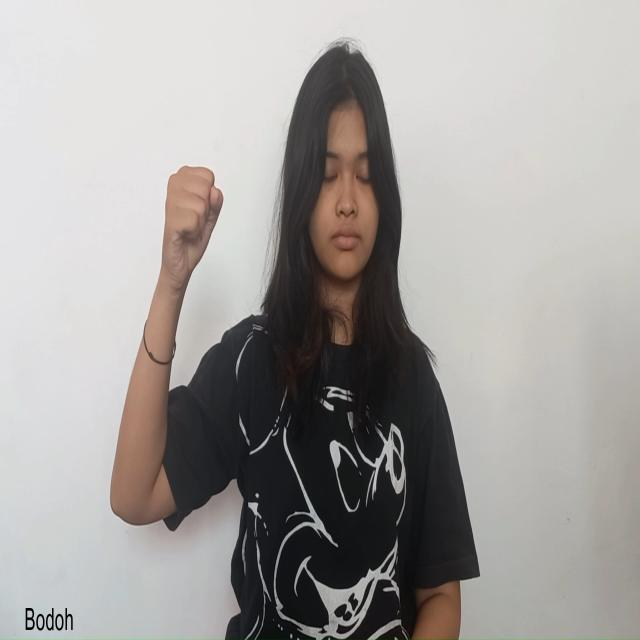Bodoh -BISINDO-: (158, 160, 226, 301)
